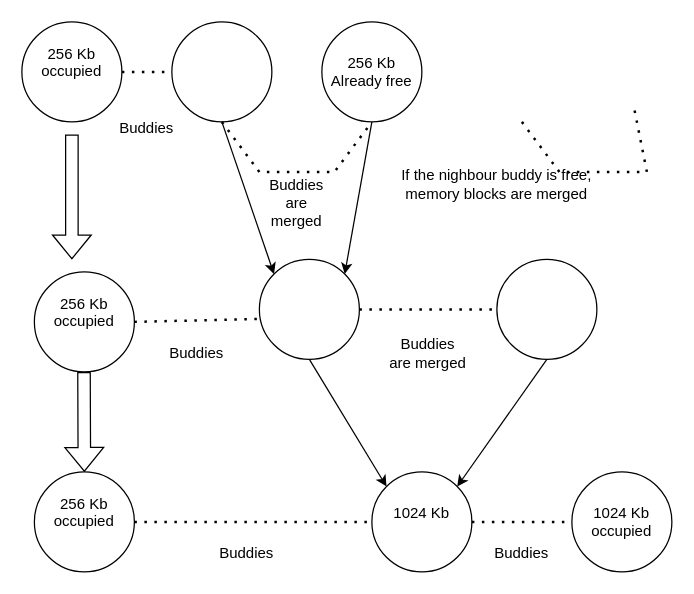
Some shapes in this 694 by 594 pixel diagram are drawn without their labels. Here are the shapes that lost their labels. From the top down, the box of each, then its label:
(171, 21, 272, 122): 256 Kb is free now
(258, 258, 359, 359): 512 Kb formed
(496, 258, 597, 359): 512 Kb Already free
